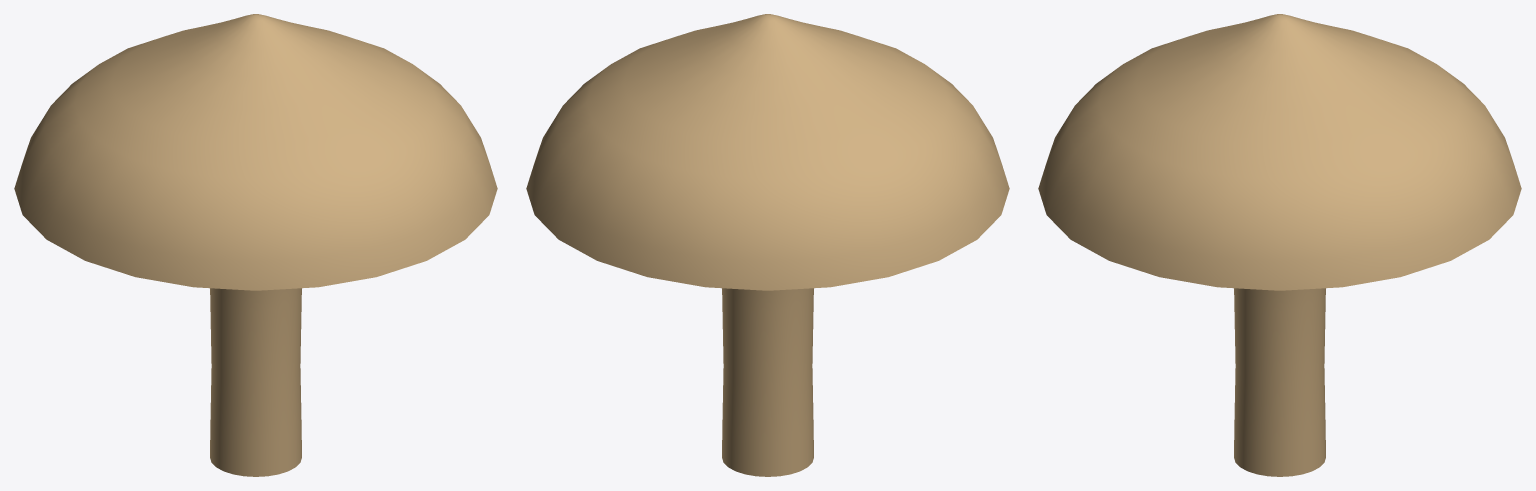
File: mushroom.fbx
3 views of the same model, side by side, from view 1: azimuth 30°, elevation 25°; view 2: azimuth 150°, elevation 25°; view 3: azimuth 270°, elevation 25° (orthographic).
Parts seen in each view (by area): view 1: Mushroom; view 2: Mushroom; view 3: Mushroom.
Part boxes in pixels (box(x1,y1,x2,y2)): Mushroom: box(14, 14, 497, 476); Mushroom: box(526, 14, 1009, 476); Mushroom: box(1038, 14, 1521, 476).
Size of the model in its own units: 480 by 486 by 480.
